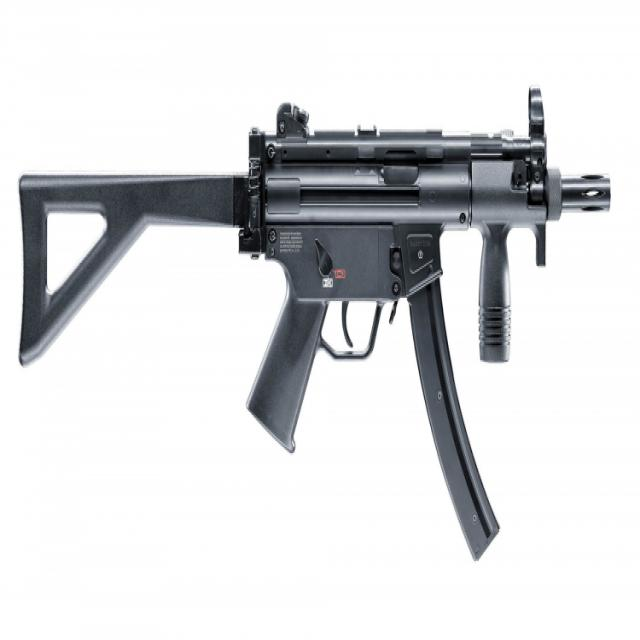SMG: (18, 88, 612, 564)
